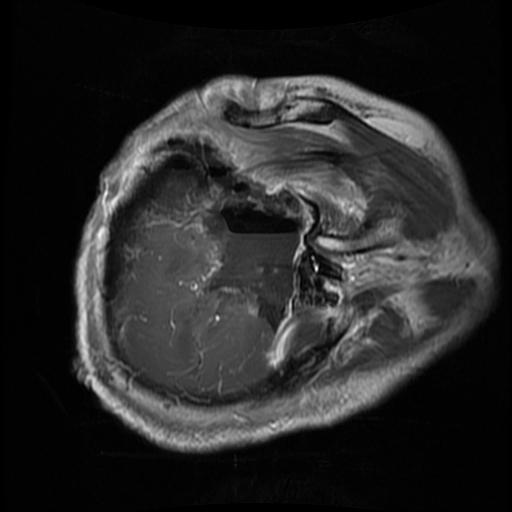glioma: (202, 189, 301, 338)
